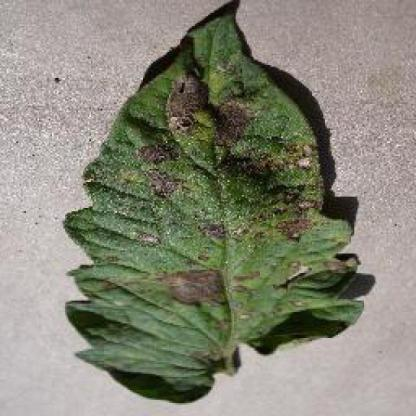Strawberry_Angular_LeafSpot: (157, 264, 234, 304), (168, 72, 207, 124), (215, 96, 252, 149)
